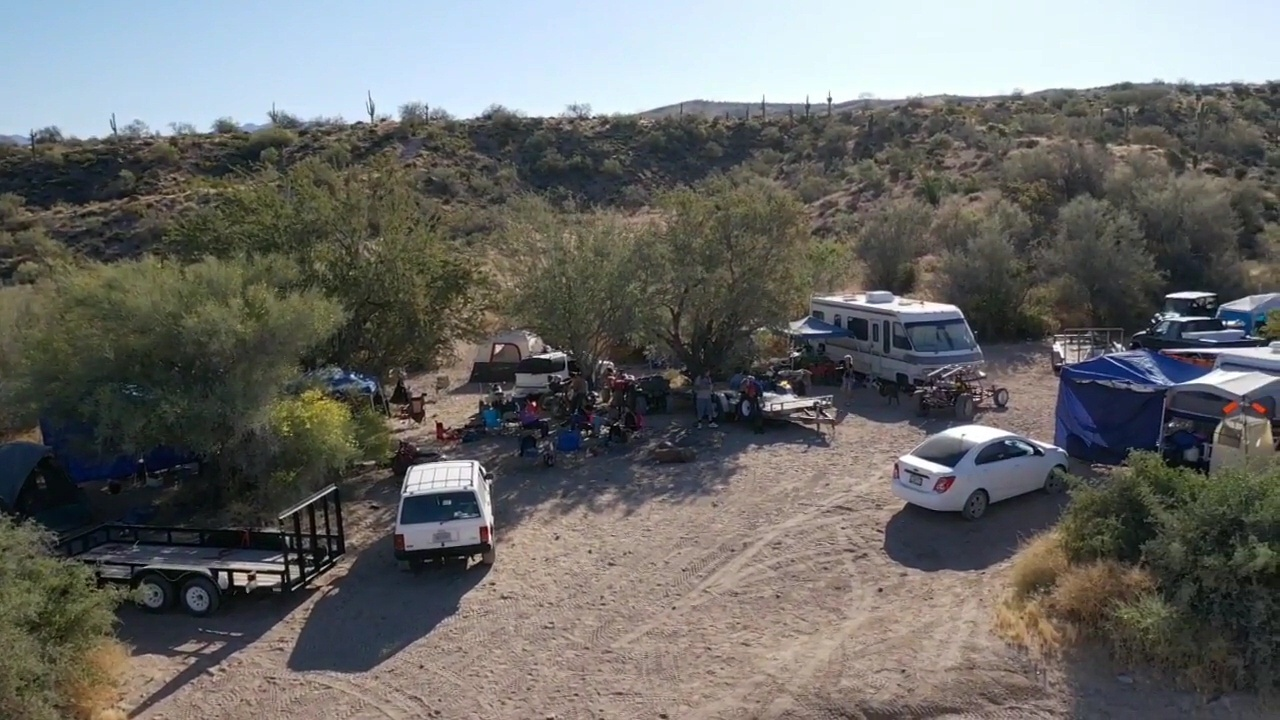araba: (892, 425, 1072, 519), (392, 458, 496, 573), (515, 347, 615, 403)
insan: (694, 365, 719, 427), (836, 352, 858, 406)
otobus: (806, 293, 988, 398)
